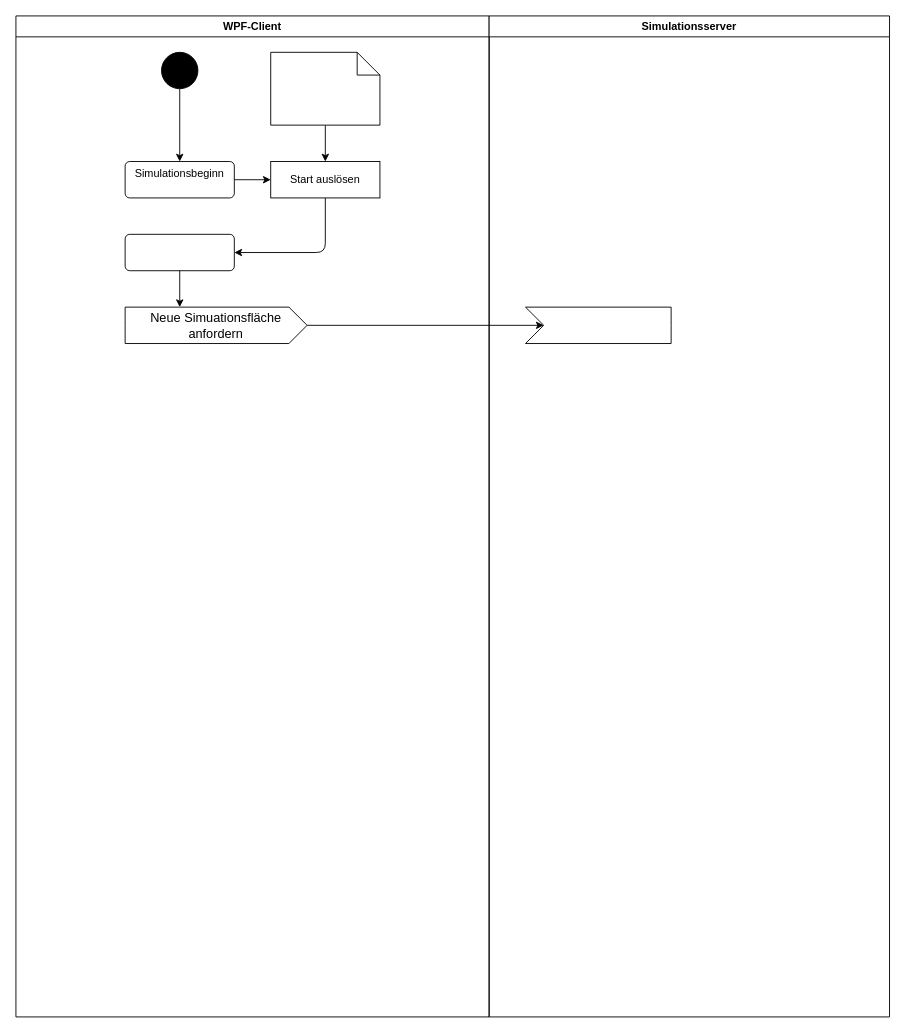
The diagram is 905 pixels wide and 1033 high, and some of its shapes have lost their labels. The shapes that lost their labels are listed below. From the top down, each one's centre as x and y in pixels, then its label:
point (325, 88): Button um die Simulation zu starten
point (179, 252): Leere Spielfläche anzeigen
point (598, 325): Simulationsfläche angefordert ✅
